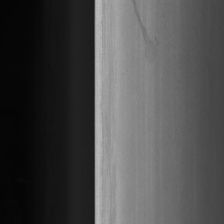water_spot: (130, 0, 169, 74)
